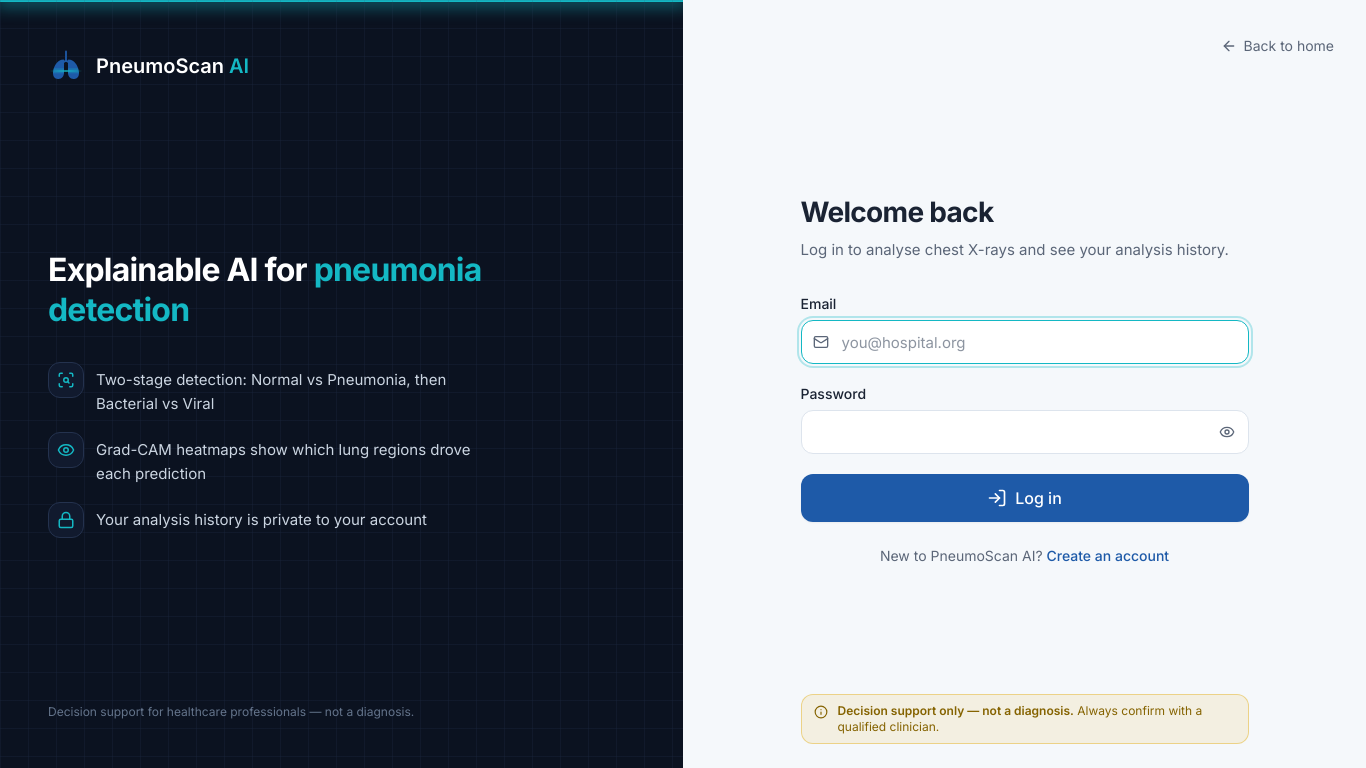
Test case: LoginPage › shows the server error for wrong credentials
Type "a@b.co" into the field labelled "Email" at (1024, 342), box top-left (800, 320), bottom-right (1248, 364)
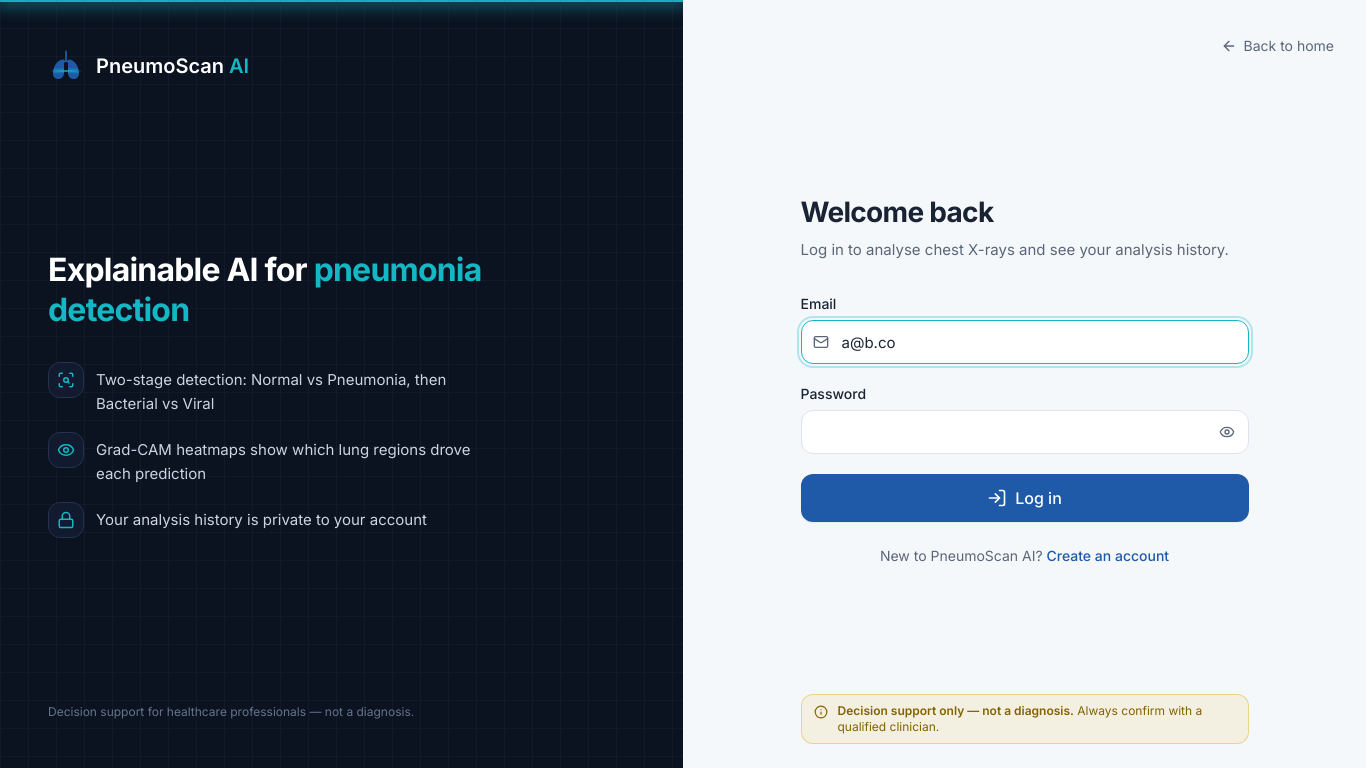
Type "wrong-pass1" into the password field labelled "Password" at (1024, 432), box top-left (800, 410), bottom-right (1248, 454)
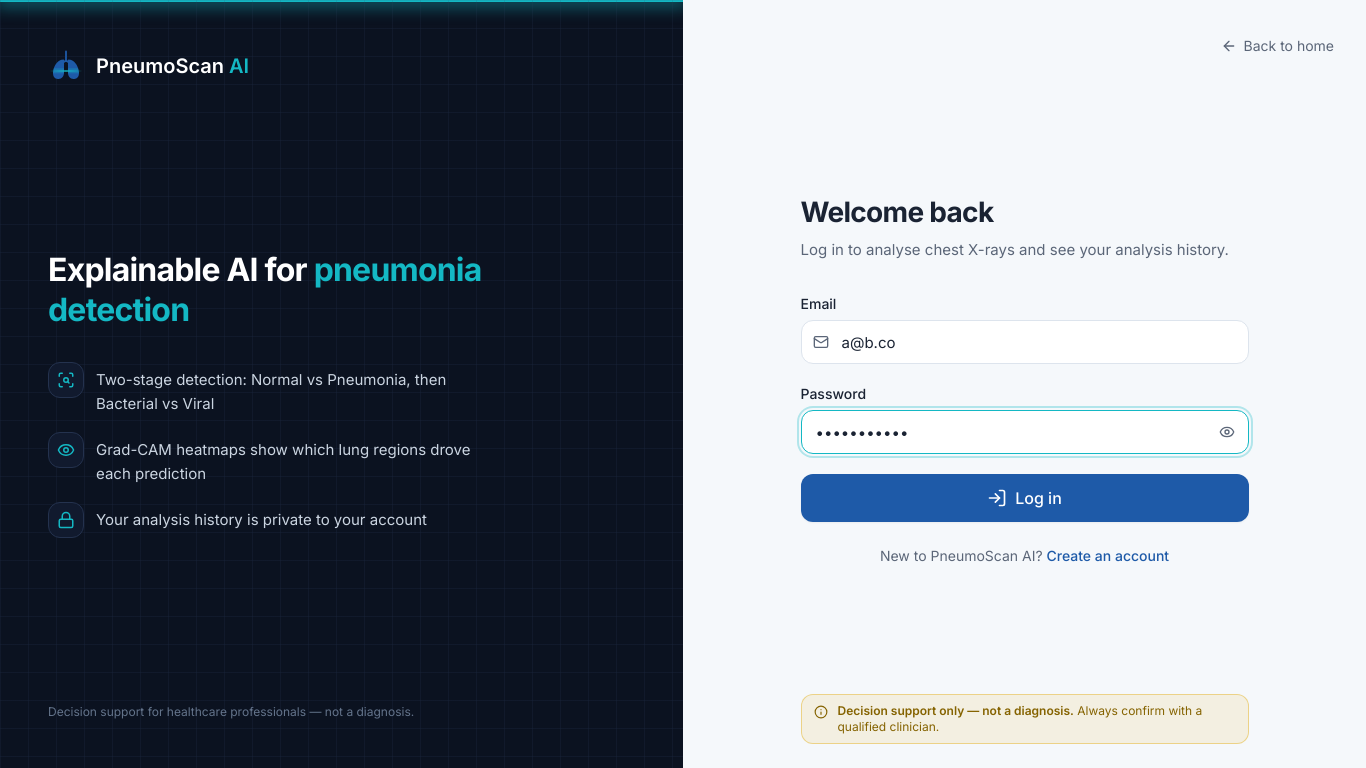
Click the button "Log in" at (1024, 498), box top-left (800, 474), bottom-right (1248, 522)
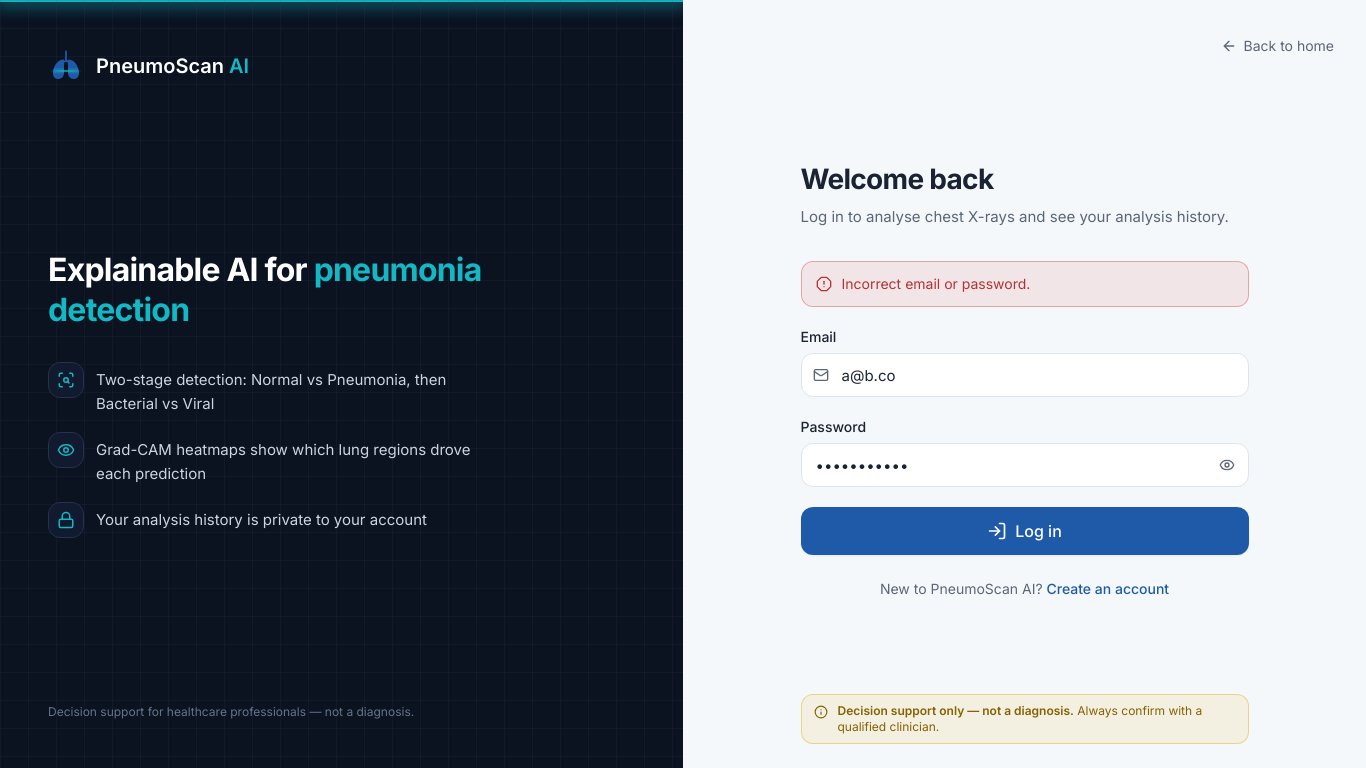
Expected: the message reads "Incorrect email or password.", top-left (842, 275), bottom-right (1030, 292)
